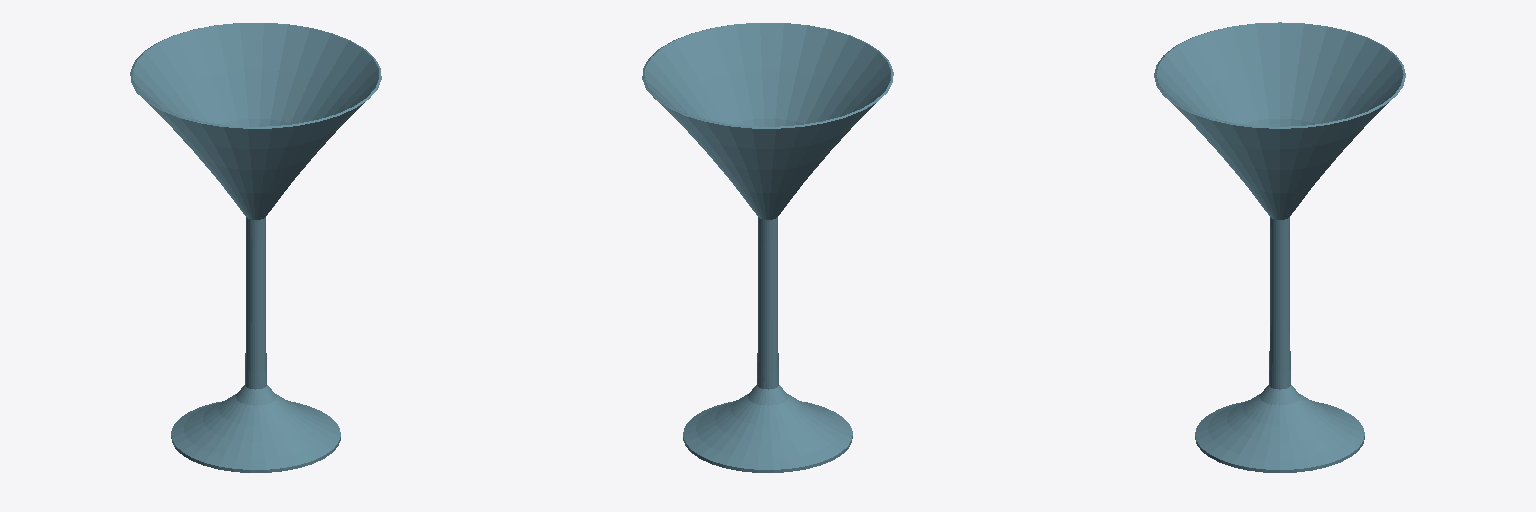
Rendered from glasswear.obj.
The picture shows the model from 3 angles: view 1: azimuth 30°, elevation 25°; view 2: azimuth 150°, elevation 25°; view 3: azimuth 270°, elevation 25°; orthographic projection.
Visible parts, largest first — view 1: martini_glass; view 2: martini_glass; view 3: martini_glass.
Boxes of the visible parts, x1,y1,x2,y2 form: martini_glass: [130, 23, 381, 472]; martini_glass: [642, 23, 893, 472]; martini_glass: [1154, 22, 1405, 472].
Size of the model in its own units: 8.63 by 13.7 by 8.63.